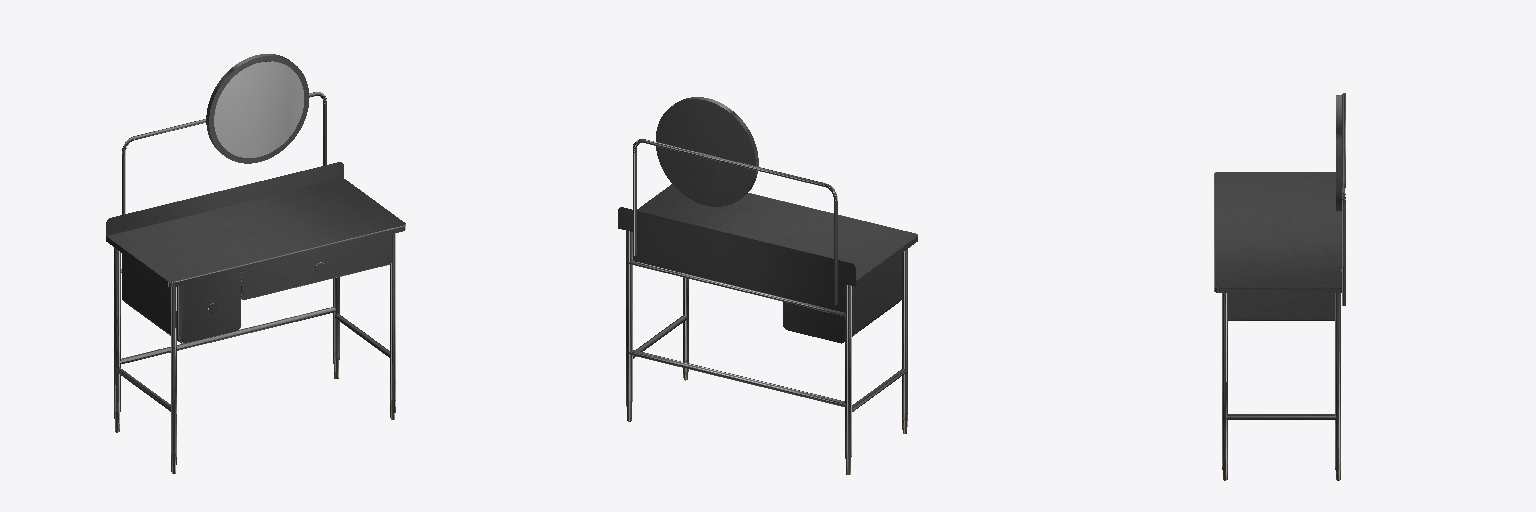
The picture shows the model from 3 angles: view 1: azimuth 30°, elevation 25°; view 2: azimuth 150°, elevation 25°; view 3: azimuth 270°, elevation 25°; orthographic projection.
Visible parts, largest first — view 1: solid_002, solid_001, solid_003; view 2: solid_002, solid_003; view 3: solid_002.
Boxes of the visible parts, box(x1,y1,x2,y2) form: solid_002: box(106, 54, 405, 453); solid_001: box(214, 61, 303, 157); solid_003: box(114, 92, 395, 473); solid_002: box(618, 97, 917, 454); solid_003: box(626, 139, 907, 474); solid_002: box(1214, 95, 1345, 459).
Bounding box in the file's own units: 0.9502 × 1.3 × 0.4588.
Materials: 1 (1 with a texture image).